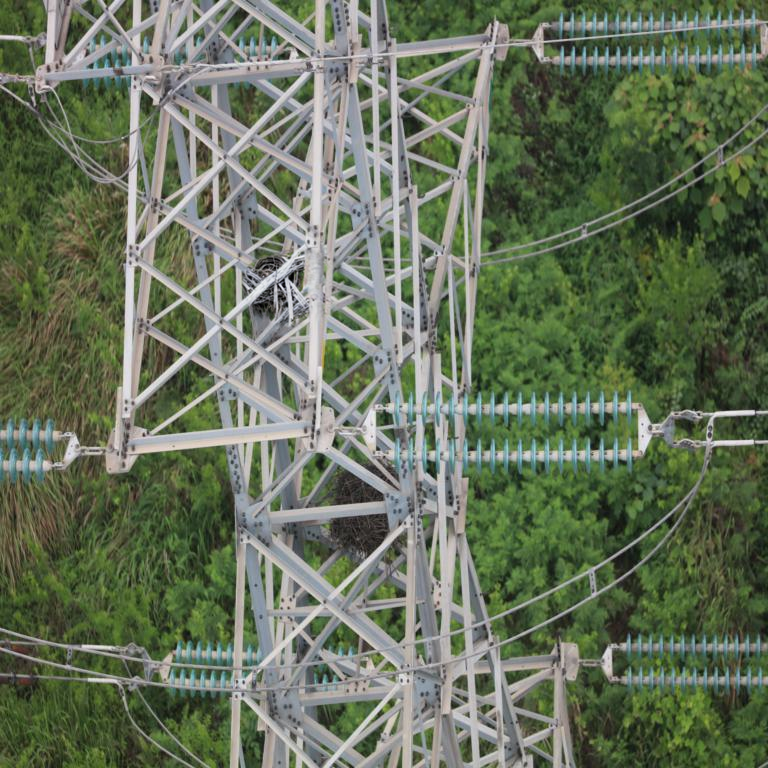nest: (330, 464, 410, 553), (242, 253, 302, 314)
